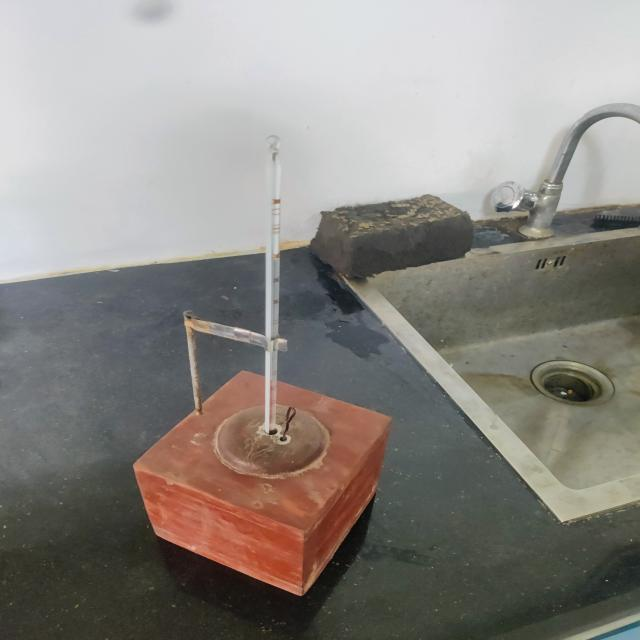Calorimeter: (97, 127, 414, 614)
